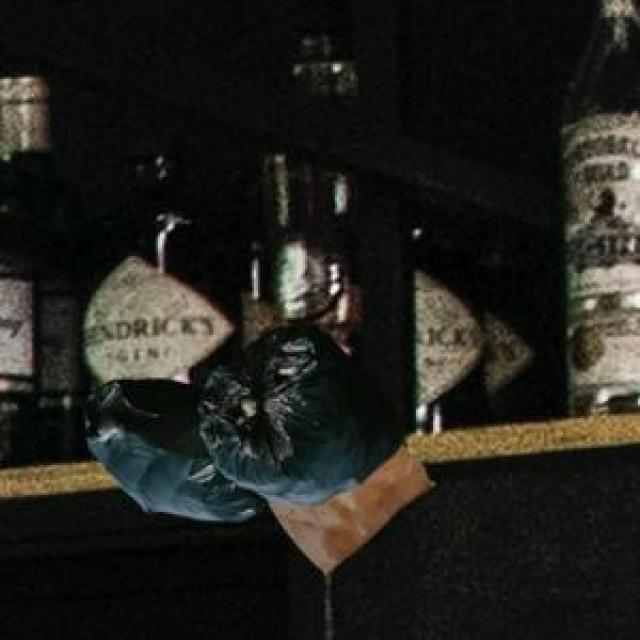miscellaneous trash: (81, 320, 397, 516)
paper: (265, 442, 431, 570)
